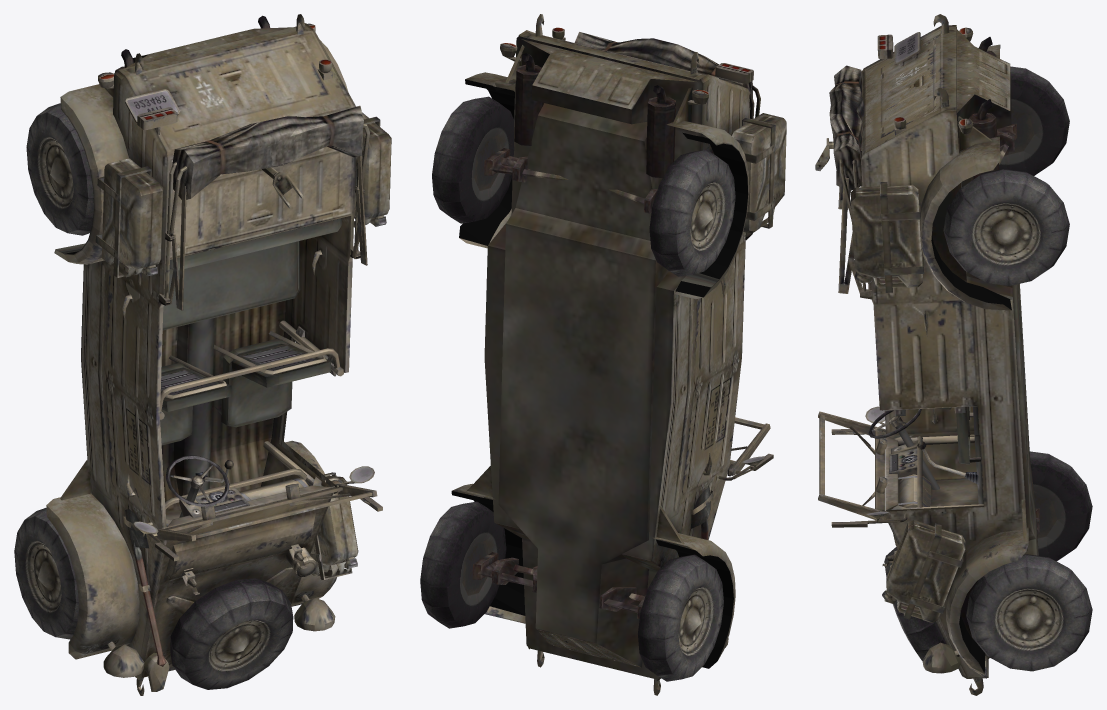
File: kubeldakwre.obj
3 renders of one model, left to right at view 1: azimuth 30°, elevation 25°; view 2: azimuth 150°, elevation 25°; view 3: azimuth 270°, elevation 25°, orthographic. The views are drawn at different scales.
Parts seen in each view (by area): view 1: Lod_0; view 2: Lod_0; view 3: Lod_0.
Boxes of the visible parts, x1=… form: Lod_0: x1=14, y1=14, x2=391, y2=695; Lod_0: x1=420, y1=14, x2=786, y2=695; Lod_0: x1=815, y1=14, x2=1092, y2=695.
Size of what is drawn, in the model's own units: 166 by 389 by 158.
Materials: 1 (1 with a texture image).
